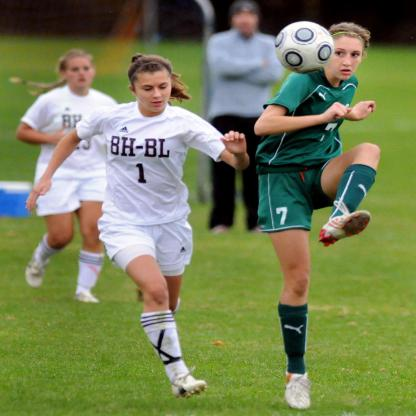face: (134, 72, 172, 113), (329, 37, 365, 80), (68, 59, 95, 90), (236, 13, 257, 37)
